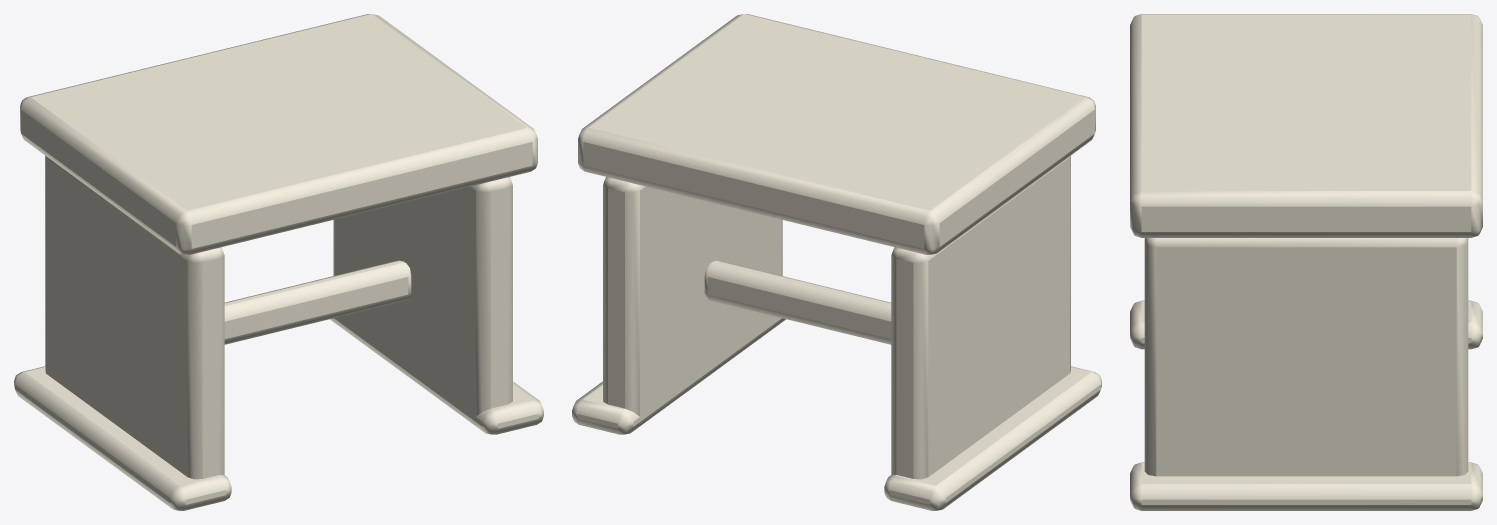
File: bath_stool.glb
3 renders of one model, left to right at view 1: azimuth 30°, elevation 25°; view 2: azimuth 150°, elevation 25°; view 3: azimuth 270°, elevation 25°, orthographic. The views are drawn at different scales.
Visible parts, largest first — view 1: Stool; view 2: Stool; view 3: Stool.
Boxes of the visible parts, x1,y1,x2,y2 form: Stool: (14,14,543,510); Stool: (572,14,1101,510); Stool: (1130,14,1482,510).
Size of the model in its own units: 0.31 by 0.2375 by 0.24.
